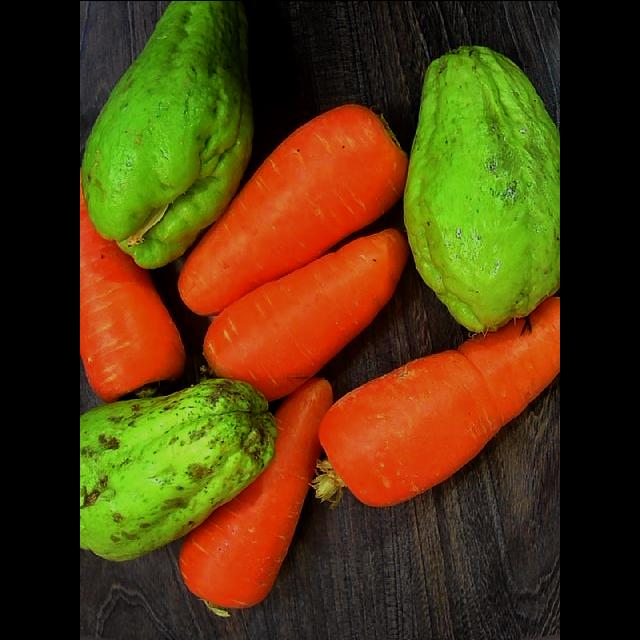chayote: (82, 1, 253, 266), (404, 46, 559, 331), (80, 379, 276, 559)
zanahoria: (320, 298, 559, 505), (179, 104, 407, 315), (179, 378, 332, 615), (203, 228, 408, 400), (80, 168, 185, 402)
